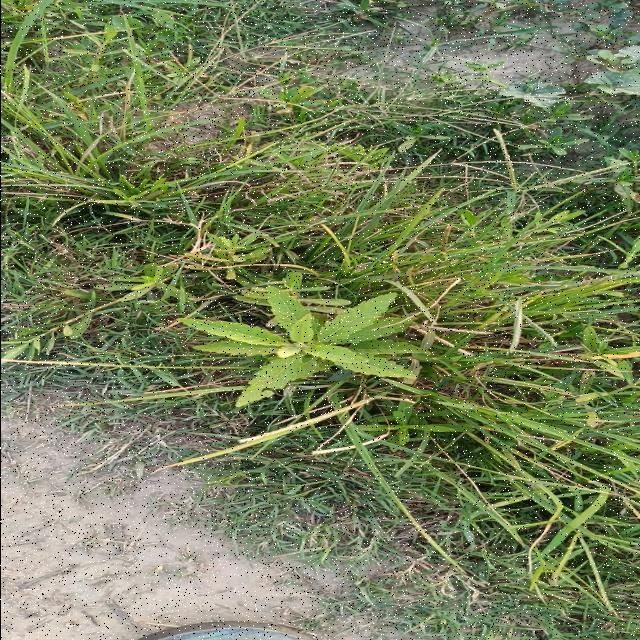plant: (180, 287, 429, 407)
